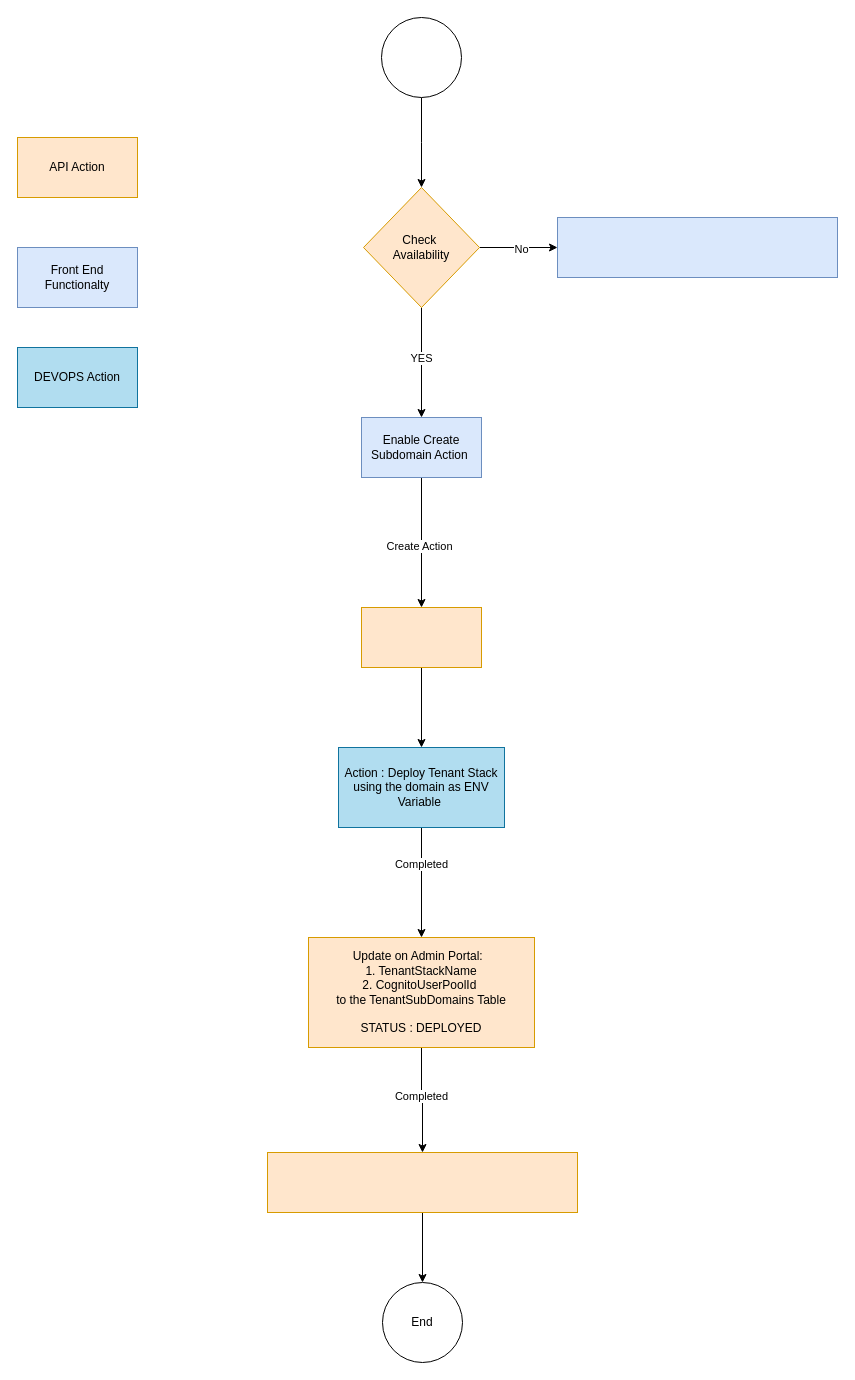
This 855x1380 diagram has some shape labels left out. Each missing label, with the box of its shape:
Add Admin Users to the Cognito UserPool: (266, 1152, 578, 1212)
Dont enable Create SubDomain Action: (556, 216, 838, 278)
Entry made in SubDomains Table. Status : INPROG: (360, 606, 482, 668)
Start: (380, 16, 462, 98)
